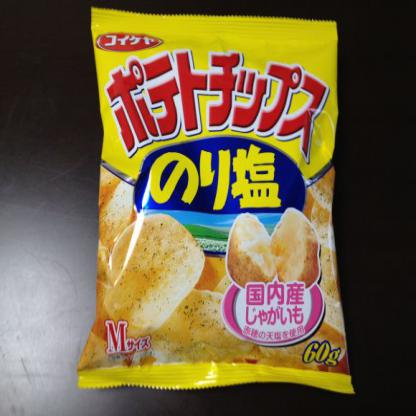potatochip: (75, 1, 359, 406)
